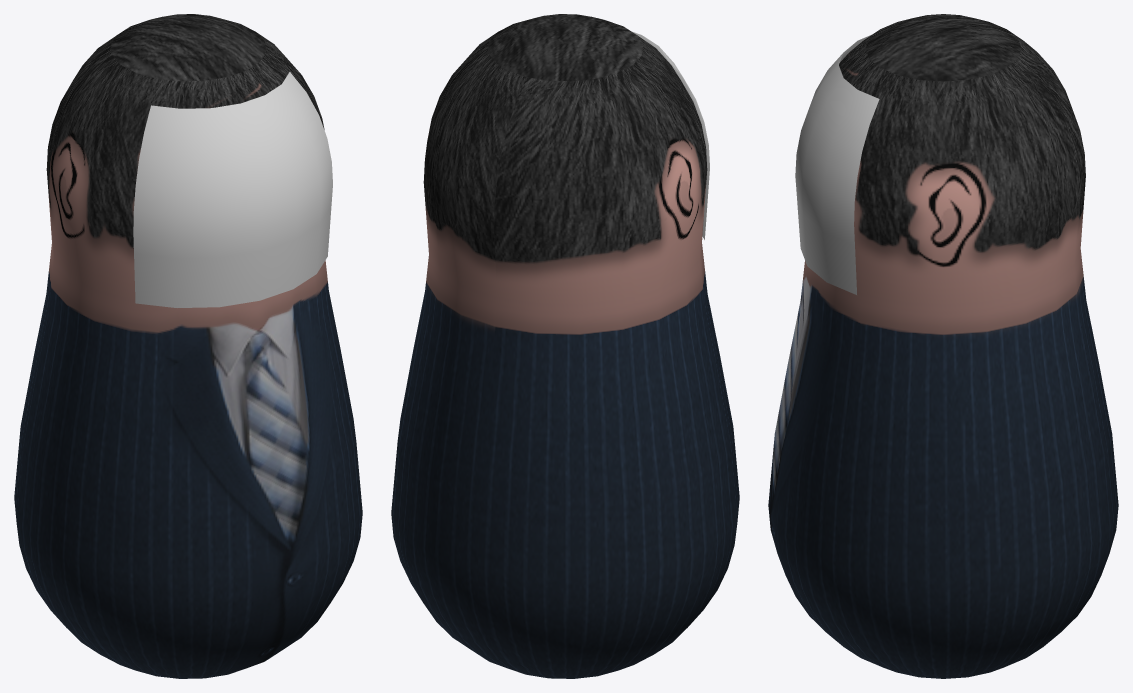
File: Person.fbx
3 views of the same model, side by side, from view 1: azimuth 30°, elevation 25°; view 2: azimuth 150°, elevation 25°; view 3: azimuth 270°, elevation 25° (orthographic).
Parts seen in each view (by area): view 1: Person, Person_Face; view 2: Person, Person_Face; view 3: Person, Person_Face.
Boxes of the visible parts, <box> form: Person: <box>14,14,362,678</box>; Person_Face: <box>133,72,332,307</box>; Person: <box>391,14,739,678</box>; Person_Face: <box>632,31,709,239</box>; Person: <box>768,14,1118,678</box>; Person_Face: <box>795,34,879,294</box>.
Bounding box in the file's own units: 2.01 × 4.01 × 2.01.
